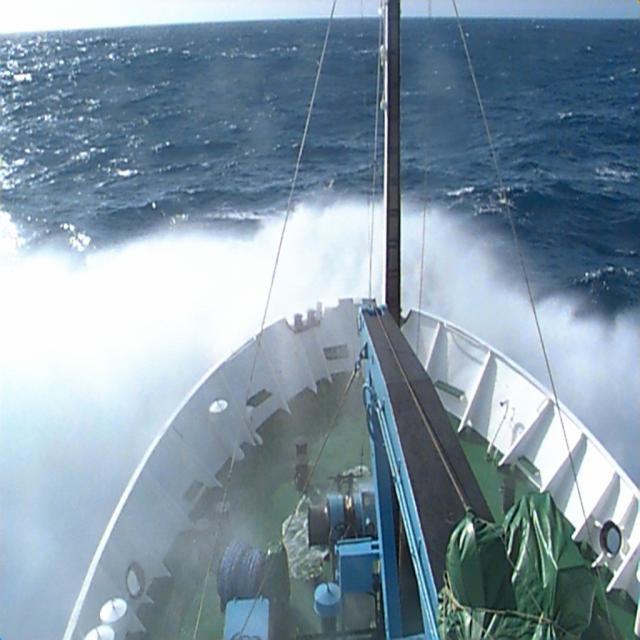Boat: (56, 52, 631, 639)
